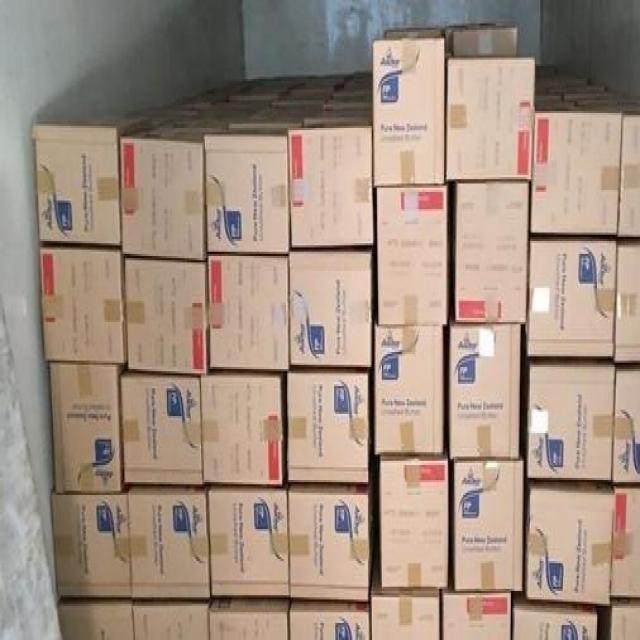box: (521, 352, 618, 485), (524, 474, 612, 610), (28, 126, 126, 247), (532, 104, 622, 235), (448, 180, 528, 327), (371, 32, 446, 186), (528, 232, 616, 363), (446, 452, 526, 595), (120, 246, 208, 376), (446, 63, 538, 186), (38, 238, 124, 369), (372, 180, 446, 330), (445, 324, 527, 457), (121, 367, 206, 495), (285, 362, 373, 484), (294, 120, 377, 248), (200, 366, 286, 489), (208, 250, 292, 375), (291, 240, 373, 368), (124, 145, 210, 266), (207, 136, 290, 260), (378, 454, 450, 596), (47, 484, 132, 604), (372, 321, 446, 454), (208, 482, 290, 602), (290, 486, 374, 602), (56, 362, 127, 496), (132, 484, 210, 604)
